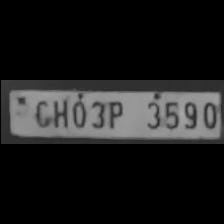0: (67, 98, 87, 128), (199, 100, 219, 128)
3: (140, 98, 162, 130), (86, 97, 106, 128)
5: (160, 98, 180, 130)
9: (179, 99, 199, 129)
C: (31, 98, 50, 127)
H: (48, 96, 68, 128)
P: (104, 98, 126, 130)
